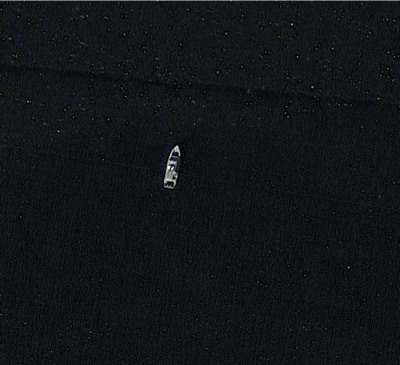boat: (163, 144, 182, 191)
